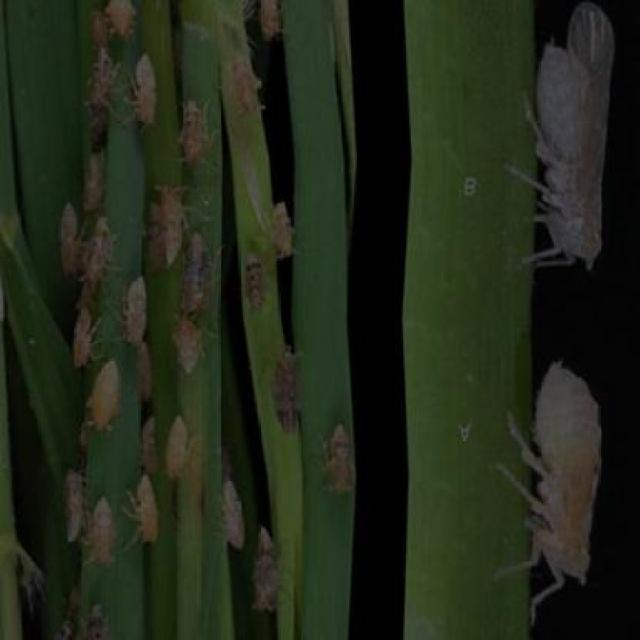brown-planthopper: (534, 5, 608, 269), (530, 358, 604, 590), (268, 342, 306, 430), (323, 422, 359, 500), (147, 188, 184, 262), (128, 474, 162, 548), (252, 524, 280, 608), (85, 497, 118, 566), (178, 99, 211, 164), (89, 360, 117, 431), (221, 478, 247, 550), (132, 54, 157, 128), (162, 415, 192, 474), (232, 49, 262, 108), (62, 469, 86, 542), (124, 277, 148, 345), (273, 203, 296, 259), (246, 254, 268, 312), (60, 204, 77, 274), (82, 153, 103, 205), (72, 310, 92, 364)
